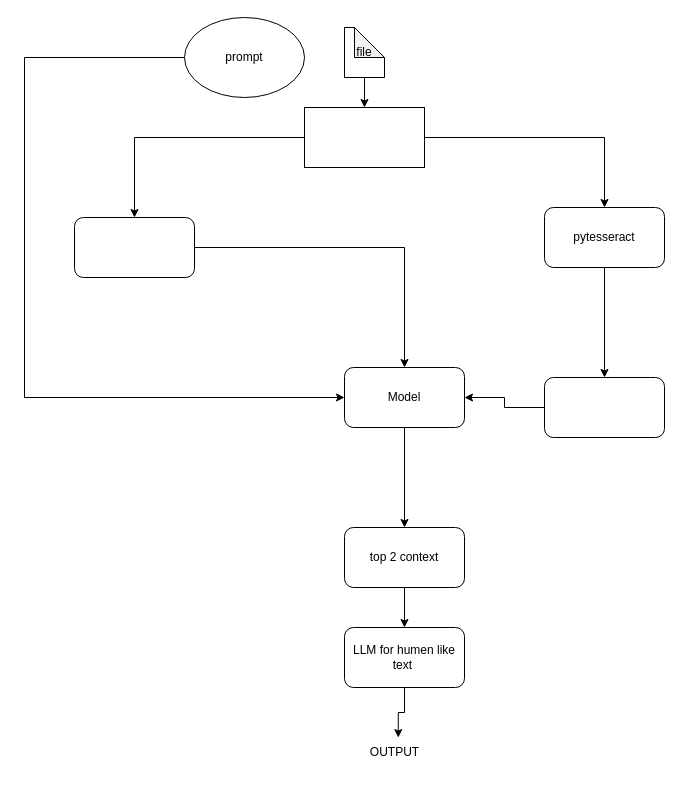
Some shapes in this 682 by 785 pixel diagram are drawn without their labels. Each missing label, with the centre of its shape:
"pdf embedding" goes at [134,247].
"pdf or scanned image classifier" goes at [364,137].
"Text extracted after ocr" goes at [604,407].
